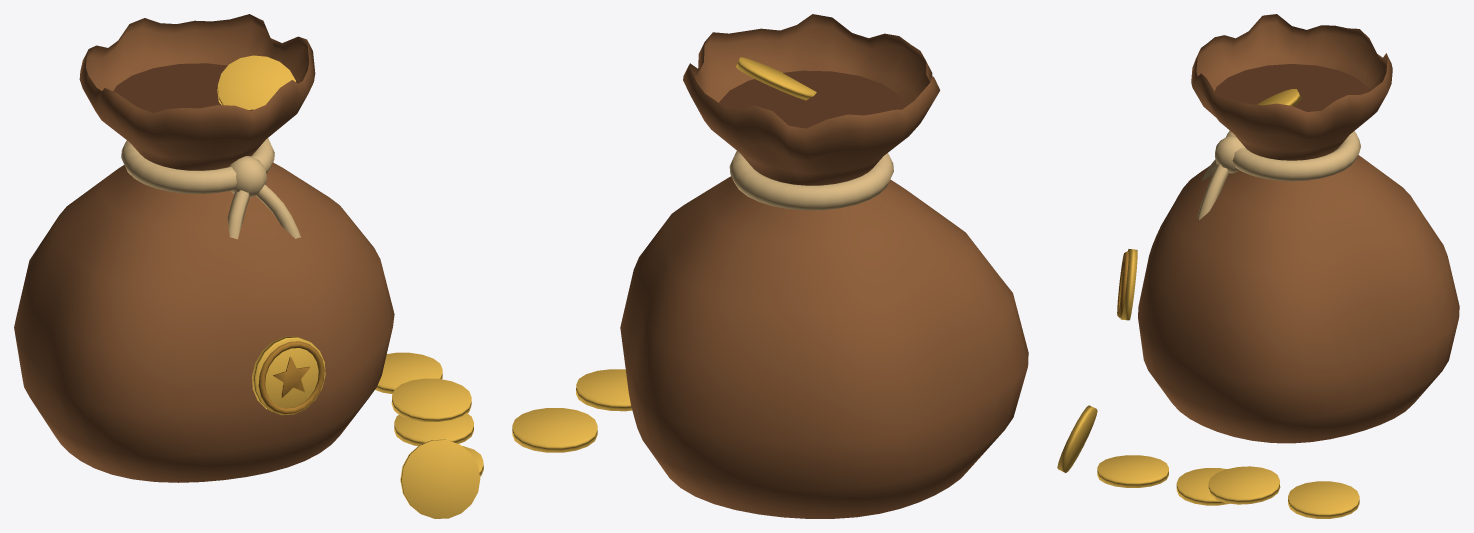
The model's file is coin-bag.glb.
3 renders of one model, left to right at view 1: azimuth 30°, elevation 25°; view 2: azimuth 150°, elevation 25°; view 3: azimuth 270°, elevation 25°, orthographic. The views are drawn at different scales.
Parts seen in each view (by area): view 1: coin-bag-sack, coin-bag-coins, coin-bag-cord, coin-bag-mouth; view 2: coin-bag-sack, coin-bag-coins, coin-bag-mouth, coin-bag-cord; view 3: coin-bag-sack, coin-bag-coins, coin-bag-mouth, coin-bag-cord.
Boxes of the visible parts, x1,y1,x2,y2 form: coin-bag-sack: (14, 14, 394, 482); coin-bag-coins: (217, 55, 483, 518); coin-bag-cord: (121, 138, 300, 239); coin-bag-mouth: (113, 63, 253, 112); coin-bag-sack: (620, 14, 1028, 518); coin-bag-coins: (512, 57, 816, 452); coin-bag-mouth: (719, 70, 905, 128); coin-bag-cord: (729, 151, 893, 210); coin-bag-sack: (1138, 14, 1459, 443); coin-bag-coins: (1057, 89, 1359, 518); coin-bag-mouth: (1215, 64, 1369, 111); coin-bag-cord: (1197, 131, 1360, 219).
Size of the model in its own units: 0.5467 by 0.4988 by 0.5064.
